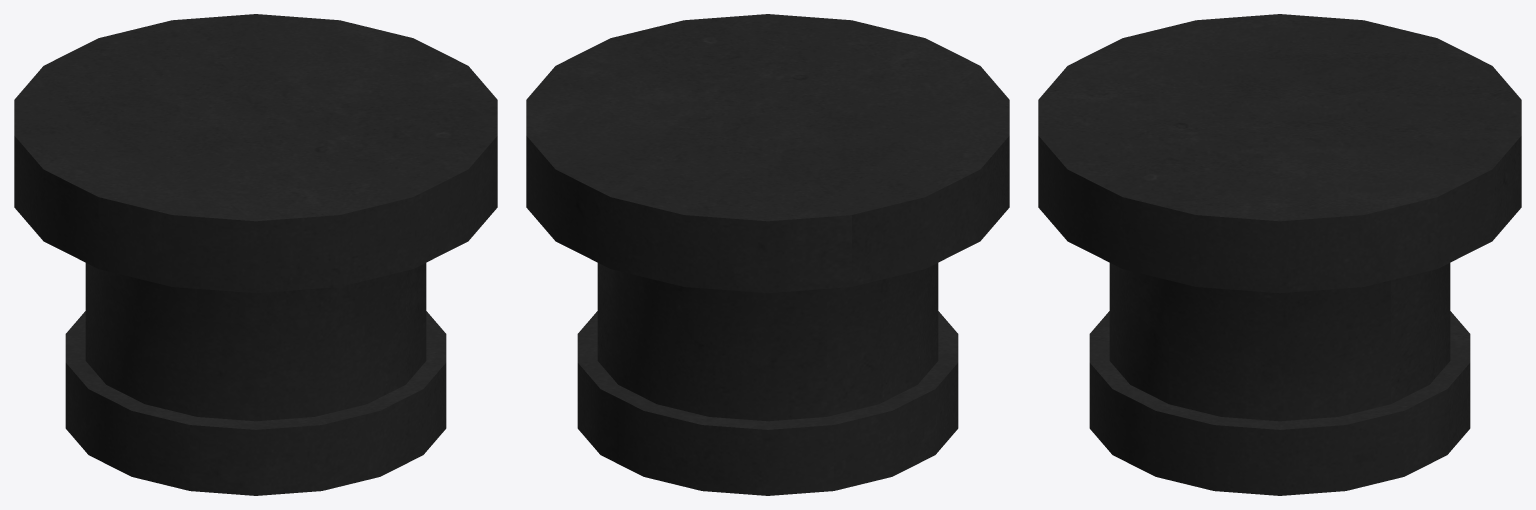
The model's file is SM_硝酸盖.FBX.
3 renders of one model, left to right at view 1: azimuth 30°, elevation 25°; view 2: azimuth 150°, elevation 25°; view 3: azimuth 270°, elevation 25°, orthographic.
Parts seen in each view (by area): view 1: SM_硝酸盖; view 2: SM_硝酸盖; view 3: SM_硝酸盖.
Part boxes in pixels (x1,y1,x2,y2): SM_硝酸盖: (14,14,497,495); SM_硝酸盖: (526,14,1009,495); SM_硝酸盖: (1038,14,1521,495).
Size of the model in its own units: 52.83 by 35.25 by 52.03.
